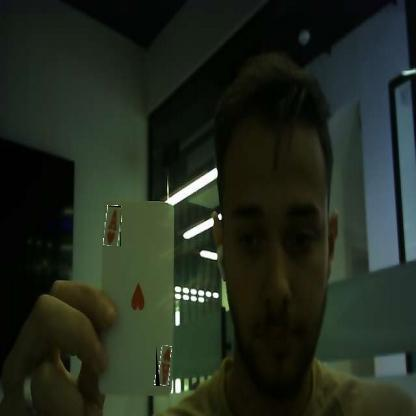AH: (104, 206, 121, 246), (156, 345, 170, 386)
